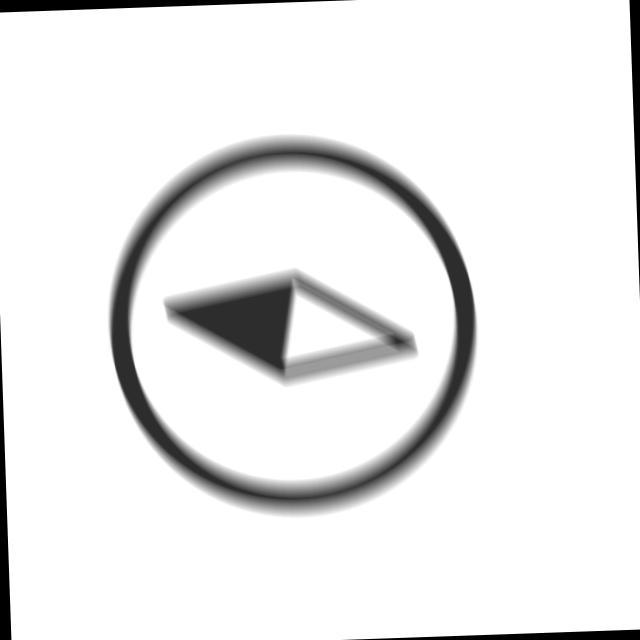compass: (93, 119, 497, 533)
